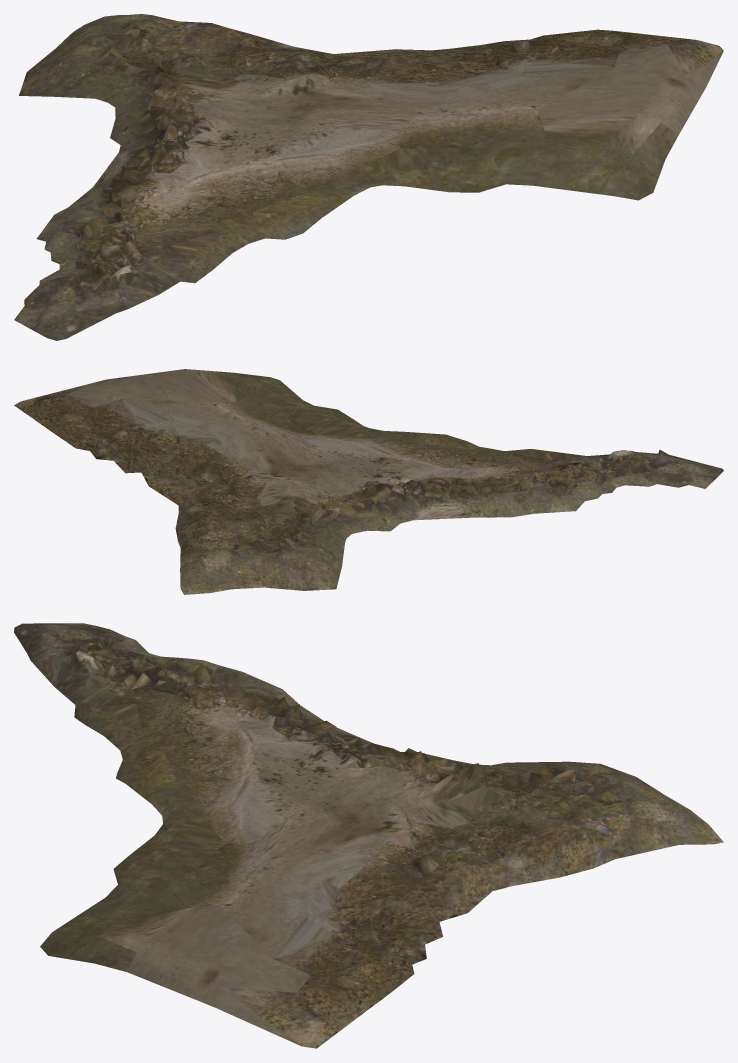
3 renders of one model, top to bottom at view 1: azimuth 30°, elevation 25°; view 2: azimuth 150°, elevation 25°; view 3: azimuth 270°, elevation 25°, orthographic. The views are drawn at different scales.
Parts seen in each view (by area): view 1: coast_rocks_01; view 2: coast_rocks_01; view 3: coast_rocks_01.
Boxes of the visible parts, bbox=[...] form: coast_rocks_01: bbox=[14, 14, 723, 340]; coast_rocks_01: bbox=[14, 369, 723, 594]; coast_rocks_01: bbox=[14, 623, 723, 1048].
Size of the model in its own units: 59.47 by 3.33 by 42.59.
1 material, 1 textured.
